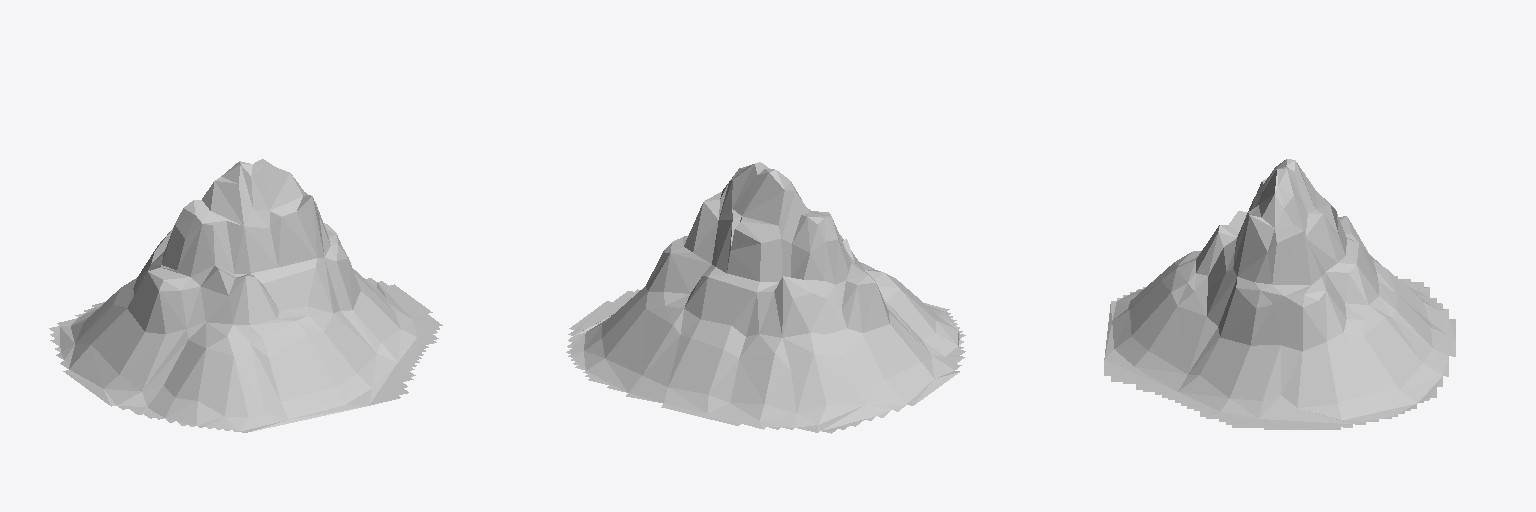
File: Mountain_1_LOD_Medium.obj
3 renders of one model, left to right at view 1: azimuth 30°, elevation 25°; view 2: azimuth 150°, elevation 25°; view 3: azimuth 270°, elevation 25°, orthographic.
Parts seen in each view (by area): view 1: Mountain_1_LOD_Medium_Plane.006; view 2: Mountain_1_LOD_Medium_Plane.006; view 3: Mountain_1_LOD_Medium_Plane.006.
Boxes of the visible parts, box(x1,y1,x2,y2) form: Mountain_1_LOD_Medium_Plane.006: box(49, 159, 442, 432); Mountain_1_LOD_Medium_Plane.006: box(566, 162, 965, 433); Mountain_1_LOD_Medium_Plane.006: box(1104, 159, 1455, 429).
Size of the model in its own units: 107 by 56.16 by 96.69.